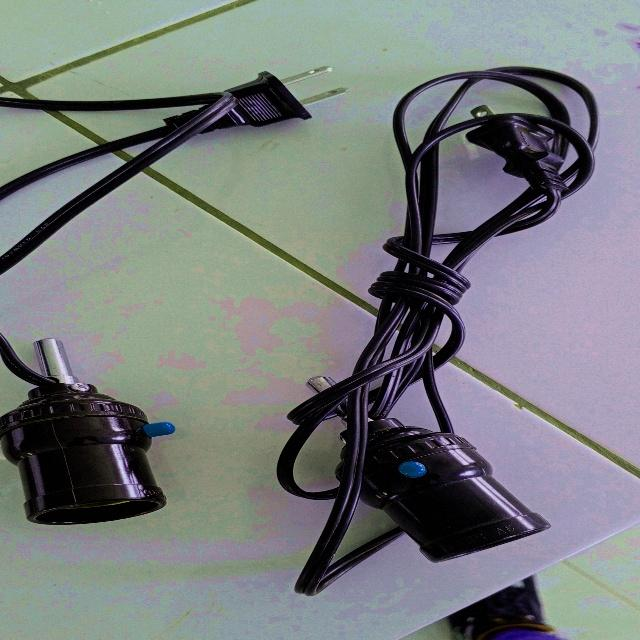Bulb Socket: (7, 55, 603, 590)
